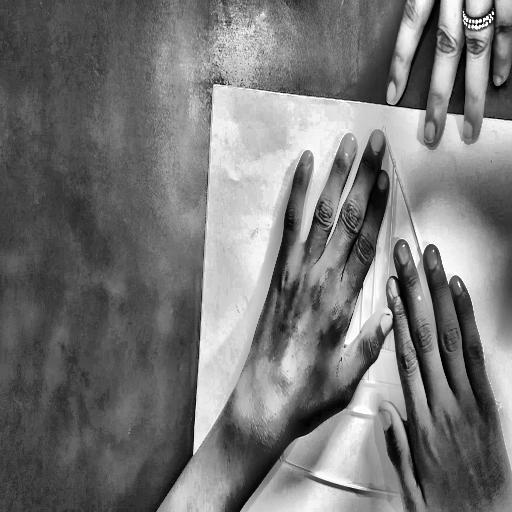boat: (247, 101, 511, 503)
top_left: (211, 78, 219, 92)
